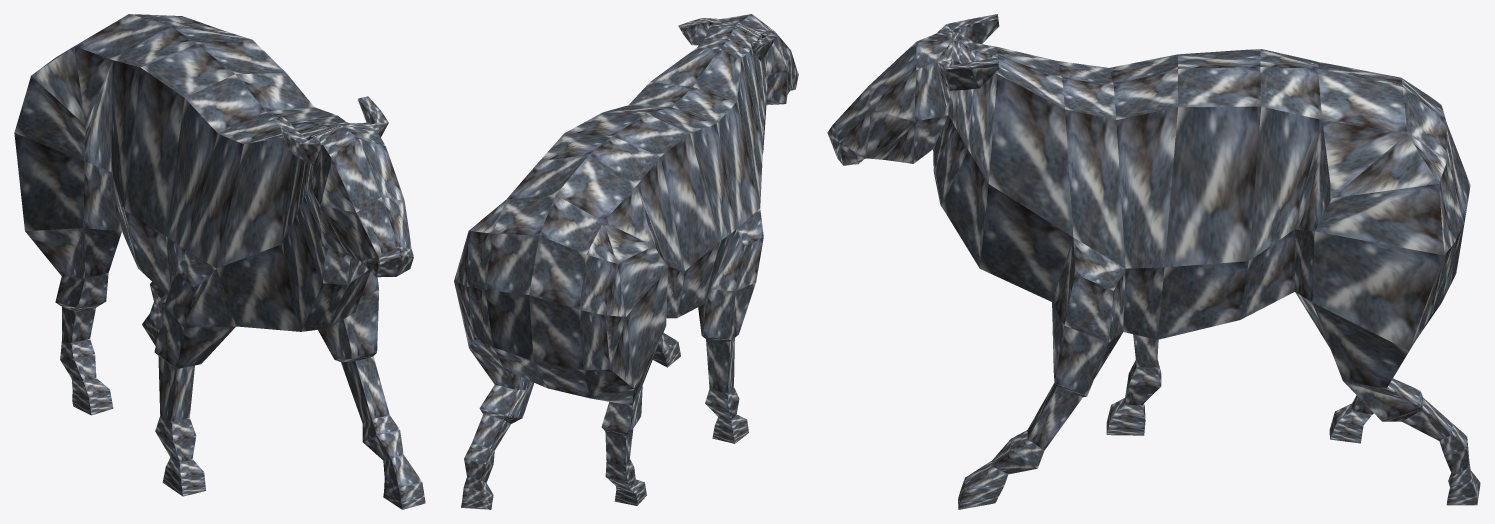
Rendered from SheepIdle_000058.obj.
3 renders of one model, left to right at view 1: azimuth 30°, elevation 25°; view 2: azimuth 150°, elevation 25°; view 3: azimuth 270°, elevation 25°, orthographic. The views are drawn at different scales.
Parts seen in each view (by area): view 1: Sheep_Cylinder; view 2: Sheep_Cylinder; view 3: Sheep_Cylinder.
Part boxes in pixels (left/top/right/bottom): Sheep_Cylinder: left=14, top=14, right=425, bottom=509; Sheep_Cylinder: left=454, top=14, right=798, bottom=509; Sheep_Cylinder: left=827, top=14, right=1480, bottom=509.
Bounding box in the file's own units: 2.22 × 4.4 × 6.01.
